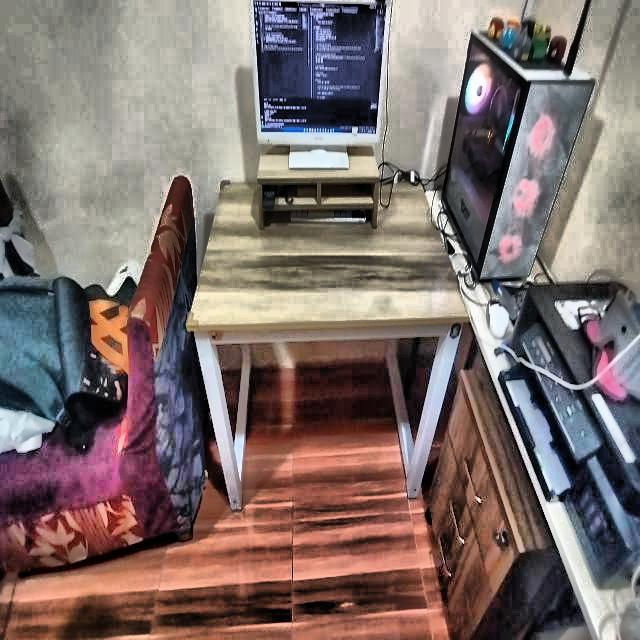mesa: (183, 155, 467, 492)
